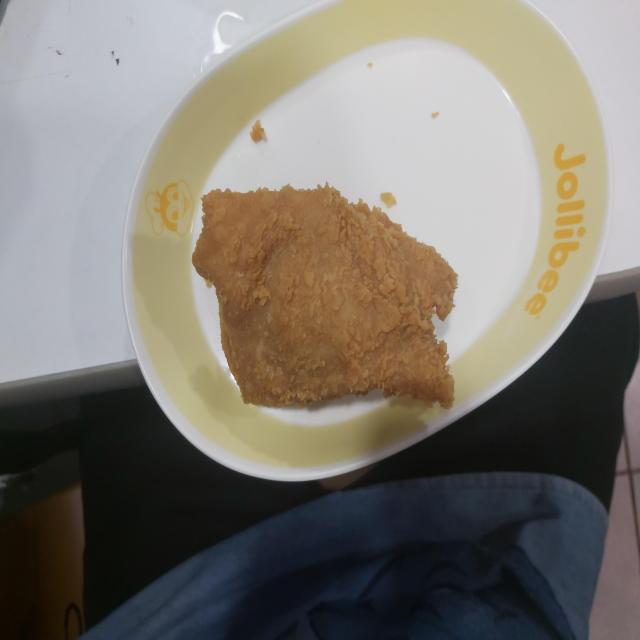Chicken -Fried Chicken-: (188, 150, 470, 464)
